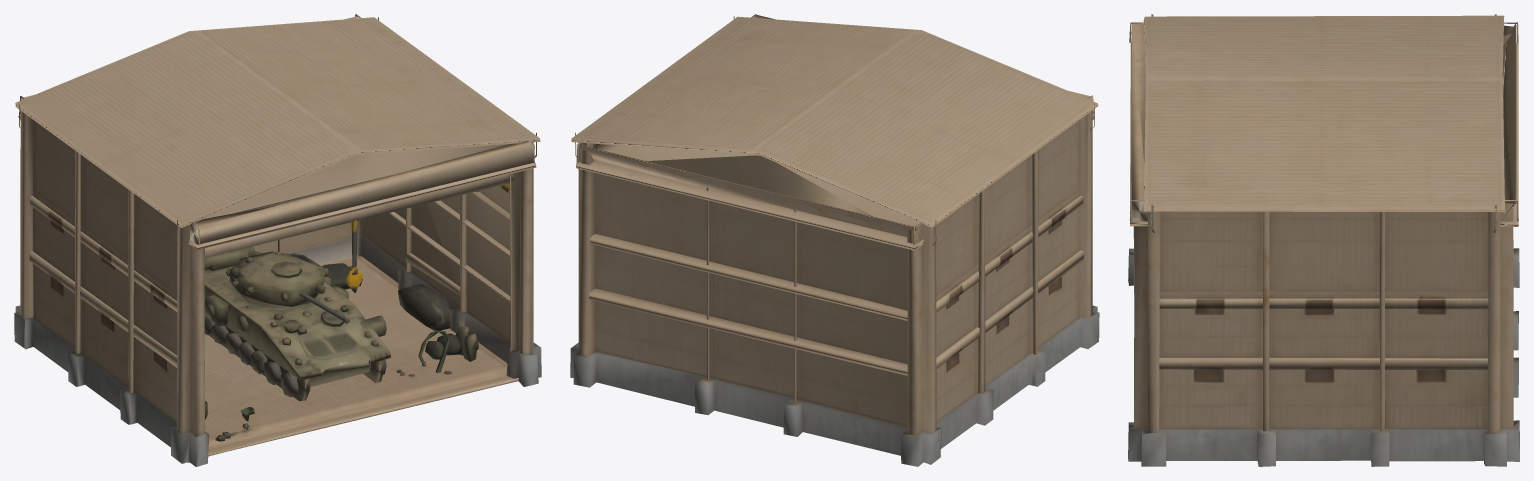
Rendered from us-vehicle-factory.glb.
3 views of the same model, side by side, from view 1: azimuth 30°, elevation 25°; view 2: azimuth 150°, elevation 25°; view 3: azimuth 270°, elevation 25° (orthographic). The views are drawn at different scales.
Visible parts, largest first — view 1: geometry_0; view 2: geometry_0; view 3: geometry_0.
Part boxes in pixels (<box>): geometry_0: <box>14,14,541,466</box>; geometry_0: <box>570,14,1099,466</box>; geometry_0: <box>1128,14,1519,466</box>.
Bounding box in the file's own units: 1 × 0.7191 × 0.8702.
Materials: 1 (1 with a texture image).
